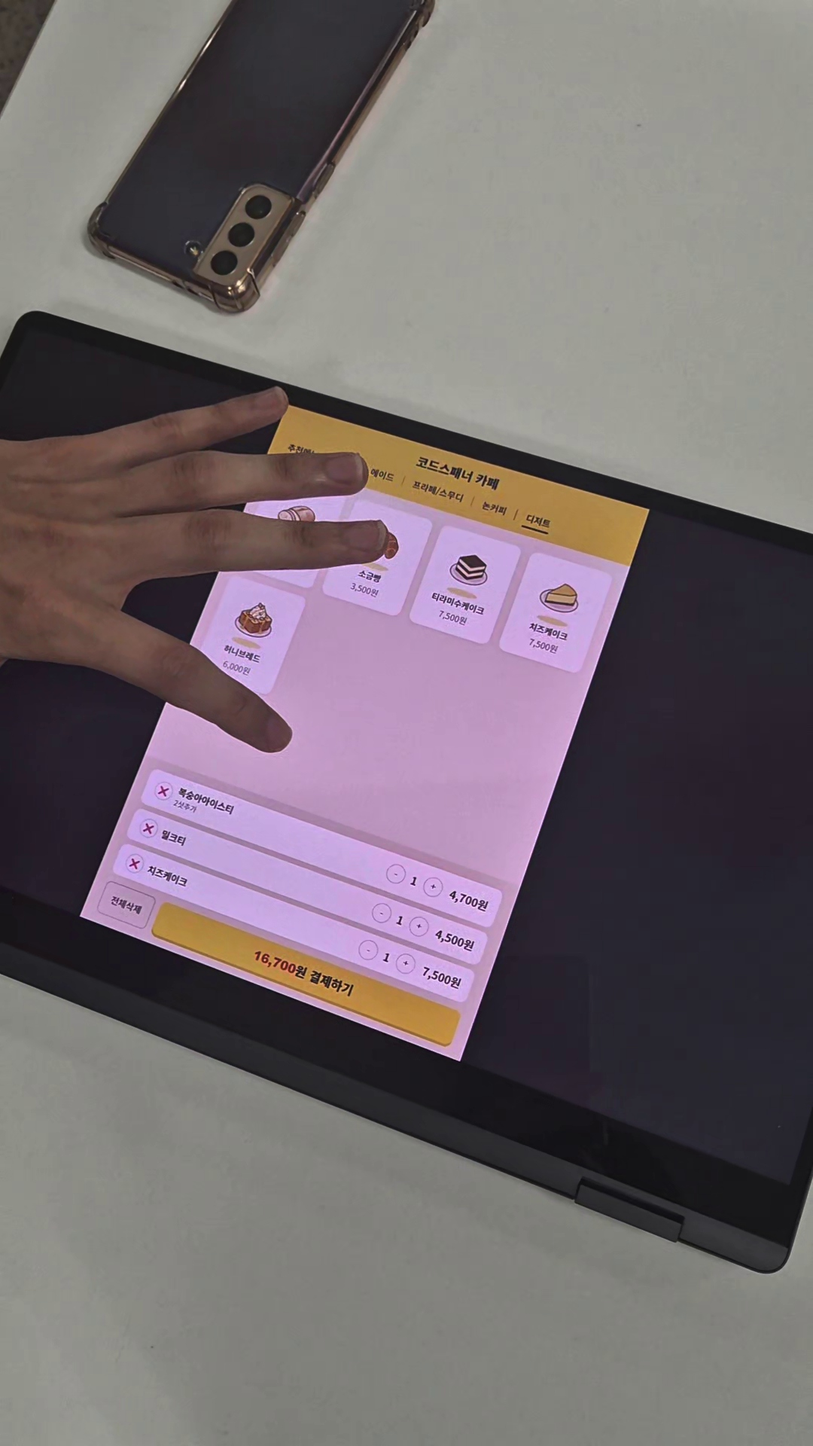action_button: (150, 900, 461, 1048), (96, 880, 156, 930)
cart_item: (110, 842, 477, 1005), (139, 768, 504, 928), (125, 808, 490, 967)
category_tab: (411, 478, 466, 504), (524, 511, 553, 530), (480, 499, 509, 517), (368, 466, 397, 484)
menu_back: (497, 550, 613, 675), (407, 525, 522, 646), (194, 576, 307, 695), (320, 498, 433, 617)
menu_name: (175, 786, 236, 817), (429, 590, 486, 617), (145, 863, 189, 888), (221, 642, 262, 666), (527, 621, 570, 643), (158, 828, 188, 849), (356, 568, 384, 585)
menu_price: (432, 927, 478, 955), (446, 887, 490, 915), (419, 965, 463, 991), (220, 658, 253, 677), (526, 637, 559, 655), (348, 581, 380, 599), (437, 609, 469, 627)
